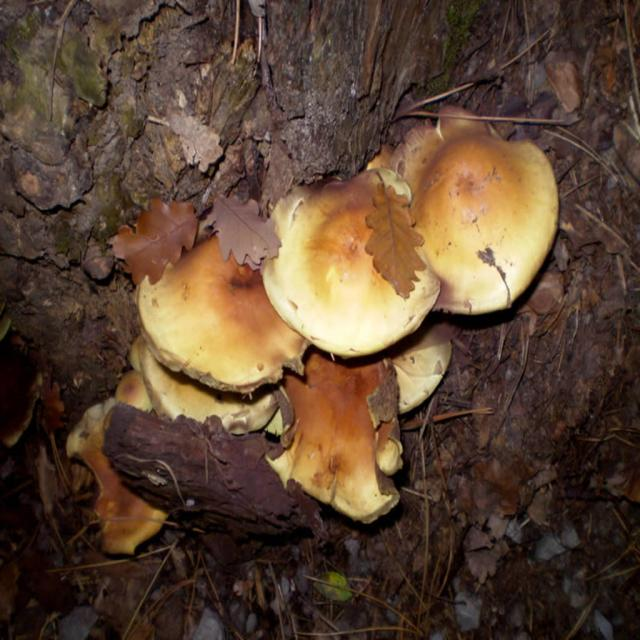Mushroom: (68, 106, 560, 554), (388, 107, 561, 316)
